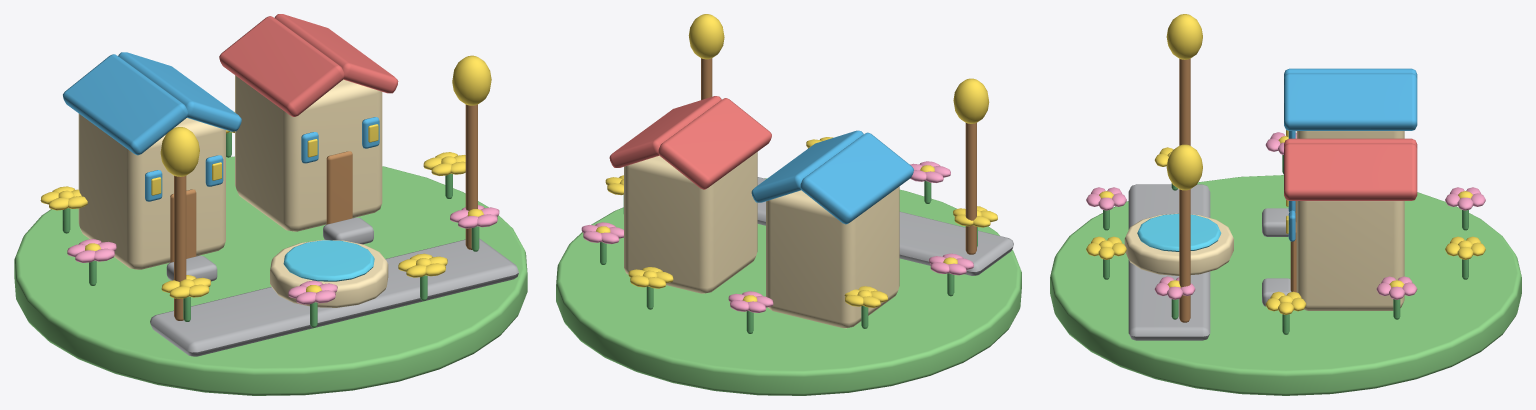
File: region_tourism.glb
3 views of the same model, side by side, from view 1: azimuth 30°, elevation 25°; view 2: azimuth 150°, elevation 25°; view 3: azimuth 270°, elevation 25° (orthographic). The views are drawn at different scales.
Visible parts, largest first — view 1: round grassy plot, rounded plaster walls.001, rounded plaster walls, plaza, overlapping roof tiles.002, overlapping roof tiles, fountain water, overlapping roof tiles.001, overlapping roof tiles.003, fountain rim, arched entry, tourist lamp (+6 smaller); view 2: round grassy plot, rounded plaster walls.001, rounded plaster walls, overlapping roof tiles, overlapping roof tiles.002, plaza, overlapping roof tiles.001, overlapping roof tiles.003, tourist lamp, lamp glow.001, lamp glow, tourist lamp.001; view 3: round grassy plot, rounded plaster walls.001, overlapping roof tiles.001, overlapping roof tiles.003, plaza, fountain rim, fountain water, tourist lamp.001, lamp glow, lamp glow.001, tourist lamp, rounded plaster walls (+4 smaller).
Boxes of the visible parts, x1,y1,x2,y2 form: round grassy plot: [14, 156, 527, 395]; rounded plaster walls.001: [235, 75, 382, 231]; rounded plaster walls: [78, 113, 225, 269]; plaza: [150, 238, 518, 356]; overlapping roof tiles.002: [219, 16, 344, 116]; overlapping roof tiles: [63, 54, 187, 155]; fountain water: [283, 240, 374, 281]; overlapping roof tiles.001: [118, 52, 241, 131]; overlapping roof tiles.003: [274, 14, 398, 93]; fountain rim: [270, 240, 388, 307]; arched entry: [326, 151, 352, 224]; tourist lamp: [174, 175, 186, 320]; round grassy plot: [556, 178, 1021, 395]; rounded plaster walls.001: [624, 152, 757, 293]; rounded plaster walls: [766, 186, 899, 328]; overlapping roof tiles: [800, 132, 913, 224]; overlapping roof tiles.002: [658, 98, 771, 189]; plaza: [757, 177, 1013, 275]; overlapping roof tiles.001: [751, 130, 863, 202]; overlapping roof tiles.003: [609, 96, 721, 167]; tourist lamp: [965, 123, 976, 254]; lamp glow.001: [953, 78, 989, 123]; lamp glow: [688, 14, 724, 59]; tourist lamp.001: [701, 58, 712, 99]; round grassy plot: [1050, 175, 1521, 395]; rounded plaster walls.001: [1296, 201, 1404, 310]; overlapping roof tiles.001: [1284, 73, 1417, 130]; overlapping roof tiles.003: [1284, 143, 1417, 200]; plaza: [1128, 184, 1210, 340]; fountain rim: [1124, 213, 1233, 275]; fountain water: [1137, 213, 1221, 251]; tourist lamp.001: [1179, 189, 1190, 322]; lamp glow: [1166, 144, 1202, 190]; lamp glow.001: [1166, 14, 1202, 59]; tourist lamp: [1179, 58, 1190, 145]; rounded plaster walls: [1296, 131, 1404, 138].
Size of the model in its own units: 3.36 by 1.71 by 3.36.
